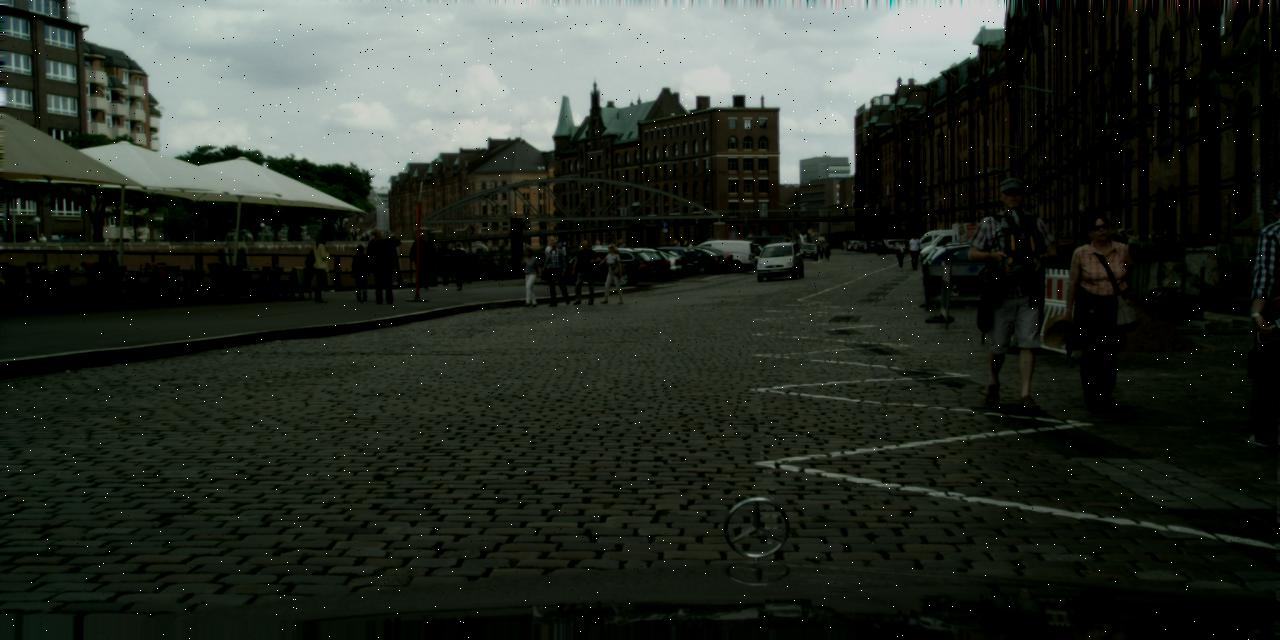ped: (964, 178, 1058, 406), (1059, 212, 1139, 406), (1226, 190, 1278, 447), (364, 227, 396, 304), (306, 231, 334, 301), (543, 238, 571, 304), (572, 240, 598, 304), (599, 243, 624, 303), (518, 246, 542, 306), (350, 245, 372, 302), (410, 232, 432, 288), (1108, 228, 1130, 283), (1120, 227, 1142, 282), (448, 241, 468, 290), (908, 234, 922, 270), (552, 238, 566, 274), (543, 241, 556, 273), (894, 240, 907, 271), (616, 238, 626, 264), (676, 238, 684, 261), (38, 233, 46, 253), (28, 236, 36, 256), (686, 241, 694, 260), (359, 228, 368, 240), (825, 242, 831, 257), (875, 242, 881, 256), (874, 203, 880, 216), (818, 243, 823, 258), (843, 202, 848, 216), (755, 206, 760, 218), (881, 242, 886, 254), (352, 228, 356, 242), (842, 241, 846, 253), (864, 203, 873, 207), (882, 206, 886, 214), (371, 230, 371, 239)
